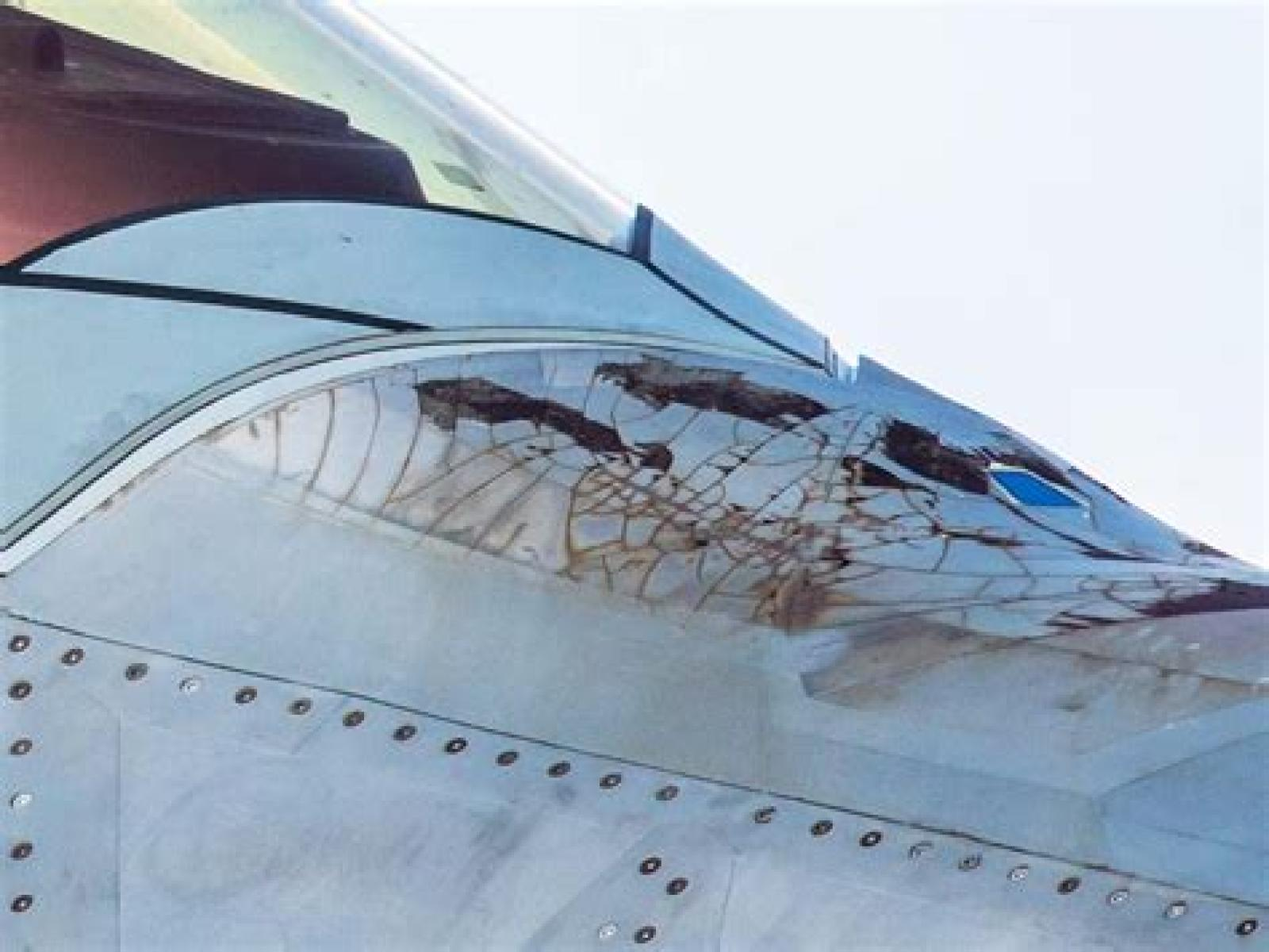Skin_Cover: (212, 342, 1264, 640), (602, 357, 827, 426), (418, 380, 629, 452), (886, 423, 985, 492), (843, 457, 908, 483)
